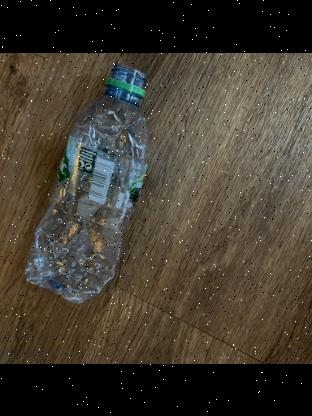Plastic Bottle: (22, 60, 156, 318)
